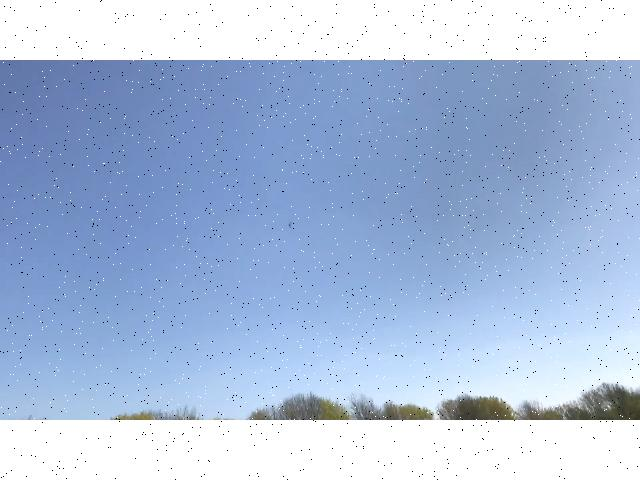Anti-Drone: (286, 214, 300, 234)
